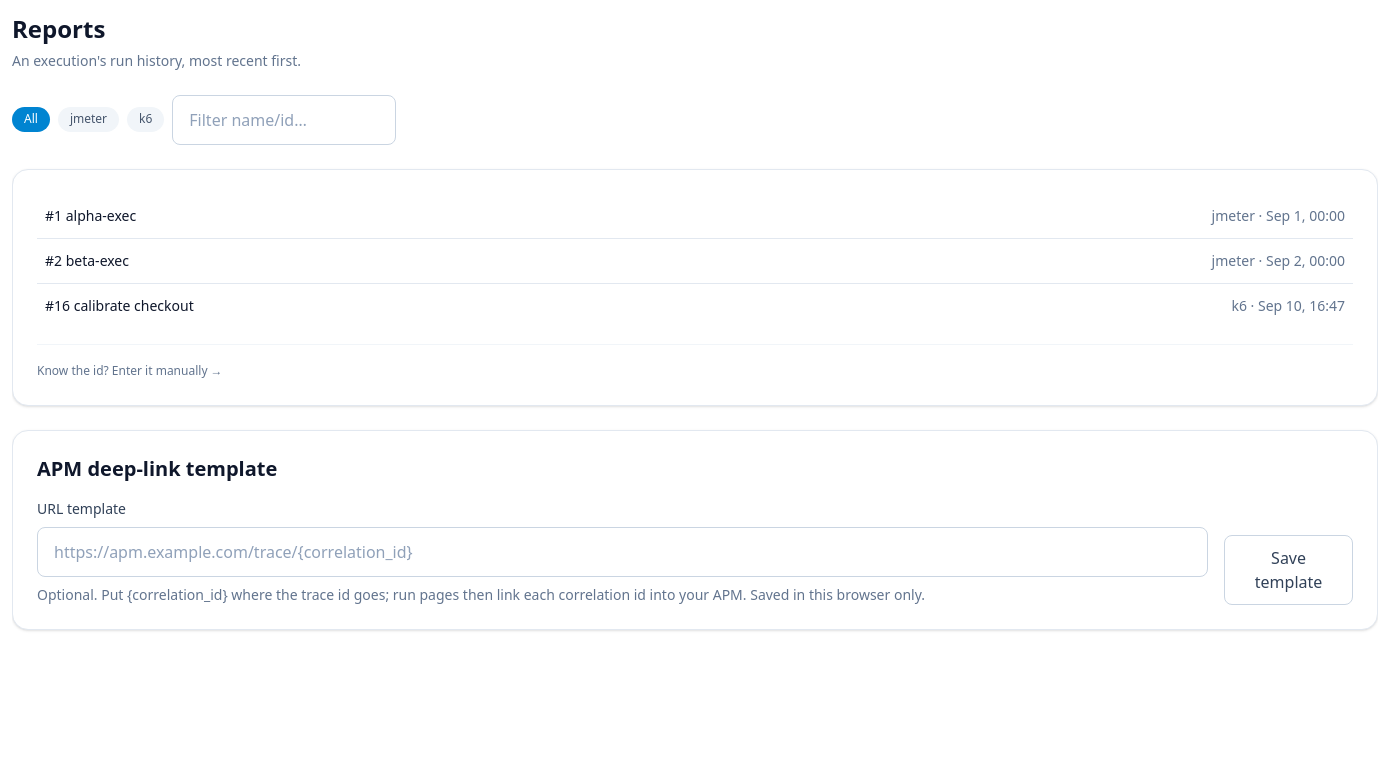
Test: ReportsList execution list (phase 27) › hides the manual id input until asked for
Step 1. Click the button with test id "manual-id-toggle" → click(130, 371), box [37,363,223,379]
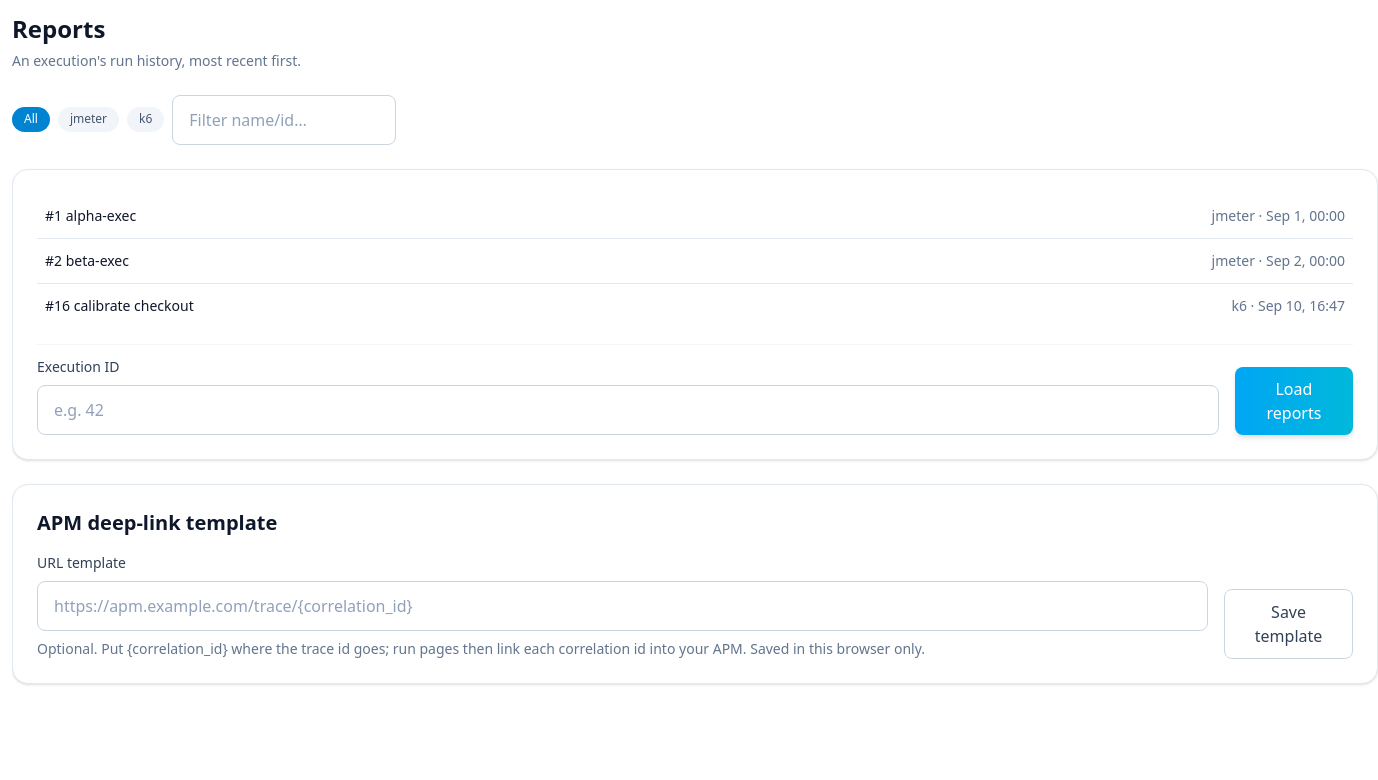
Now the number field labelled "Execution ID" is shown, box [37,385,1219,435]
